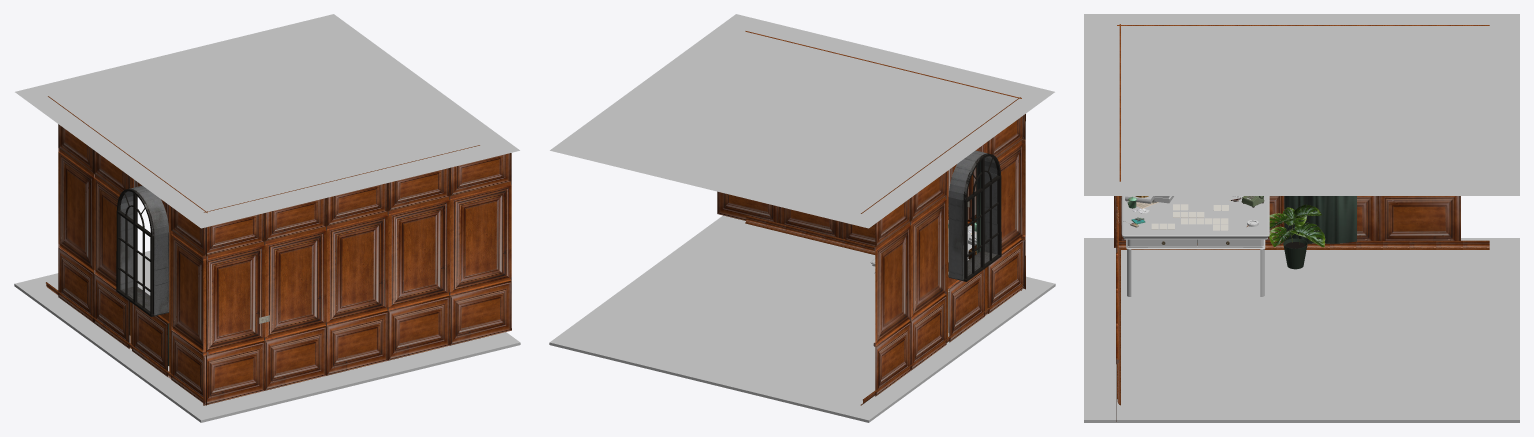
The model's file is boom验证9.fbx.
The picture shows the model from 3 angles, left to right: view 1: azimuth 30°, elevation 25°; view 2: azimuth 150°, elevation 25°; view 3: azimuth 270°, elevation 25°; orthographic projection. The views are drawn at different scales.
Visible parts, largest first — view 1: 平面.016, 平面.001, 平面.013, 柱体.006; view 2: 平面.001, 平面.013, 平面.016, 柱体.006; view 3: 平面.001, 平面.013, 平面.016, 平面, 平面.021, 平面.048, 柱体.002.
Part boxes in pixels (x1,y1,x2,y2): 平面.016: (46, 96, 511, 405); 平面.001: (15, 14, 519, 228); 平面.013: (14, 251, 520, 422); 柱体.006: (116, 179, 169, 316); 平面.001: (550, 14, 1054, 228); 平面.013: (549, 215, 1055, 422); 平面.016: (717, 31, 1025, 405); 柱体.006: (948, 144, 1001, 281); 平面.001: (1084, 14, 1519, 195); 平面.013: (1084, 238, 1519, 422); 平面.016: (1114, 24, 1489, 421); 平面: (1121, 196, 1269, 296); 平面.021: (1197, 196, 1356, 243); 平面.048: (1269, 204, 1325, 247); 柱体.002: (1283, 238, 1307, 269).
Size of the model in its own units: 2774 by 1592 by 2765.
